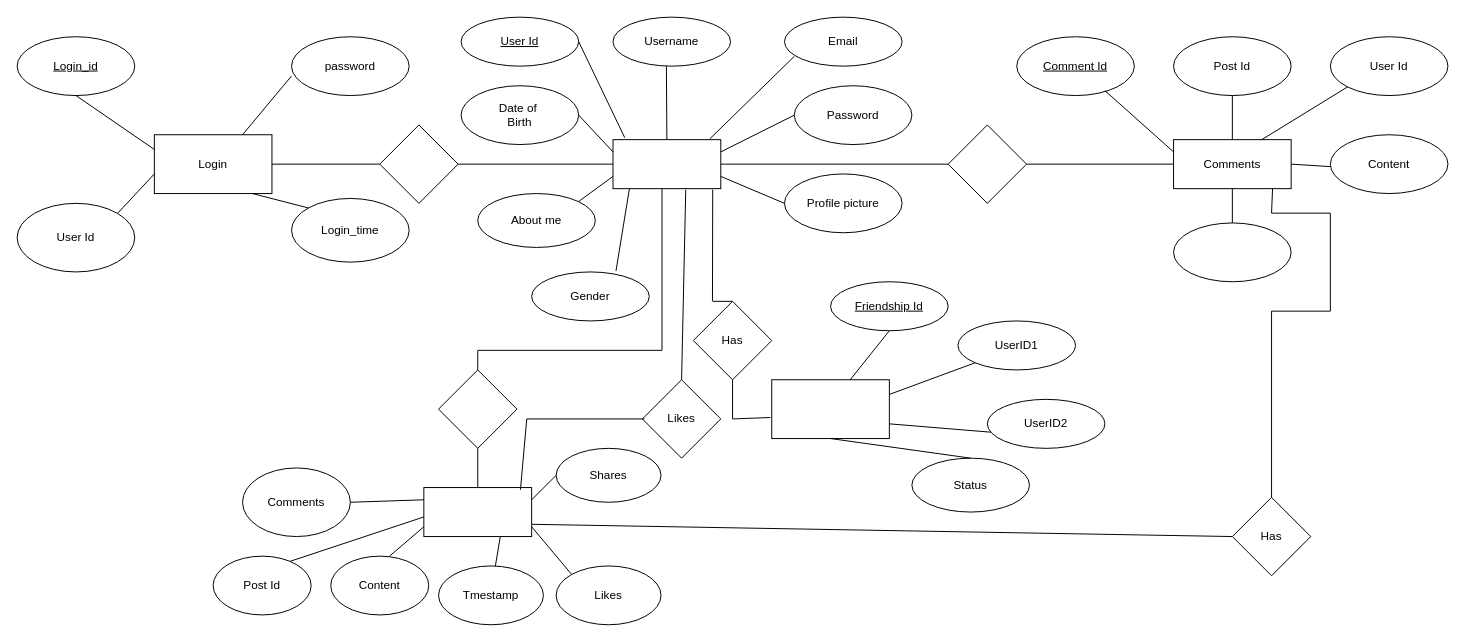
The diagram is 1465 pixels wide and 642 high, and some of its shapes have lost their labels. The shapes that lost their labels are listed below. From the top down, each one's centre as x and y in pixels, then its label:
pixel 418 163: Authorized
pixel 666 164: User
pixel 987 163: makes
pixel 1232 252: Timestamp
pixel 477 408: Creates
pixel 830 409: Friends
pixel 477 512: Post
